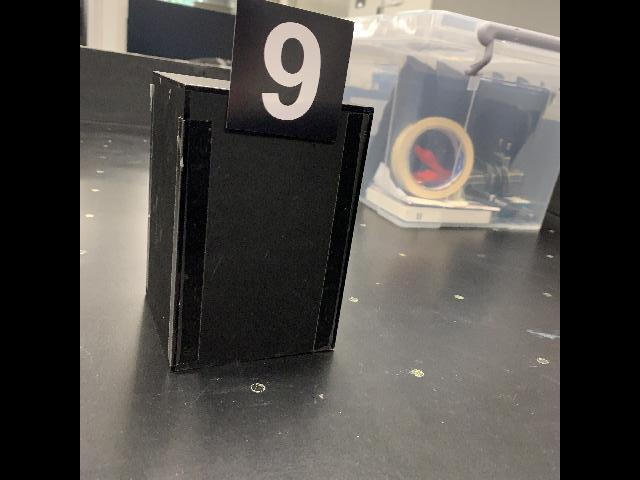nine: (220, 1, 358, 147)
